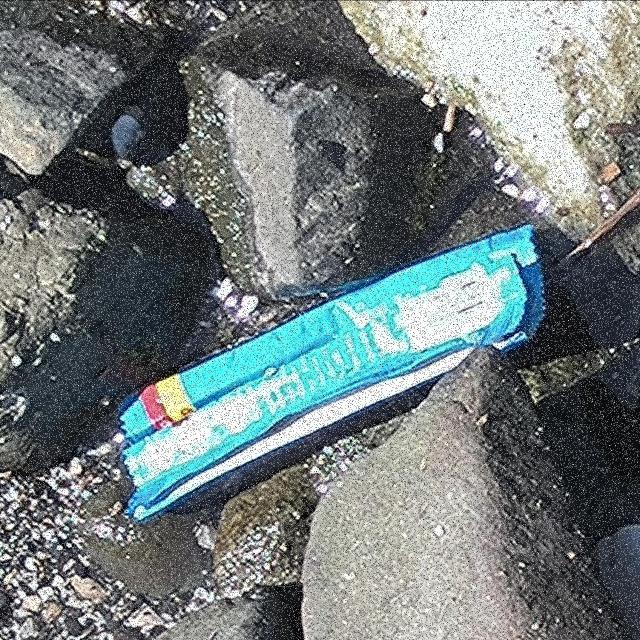plastic_waste: (114, 223, 548, 522)
